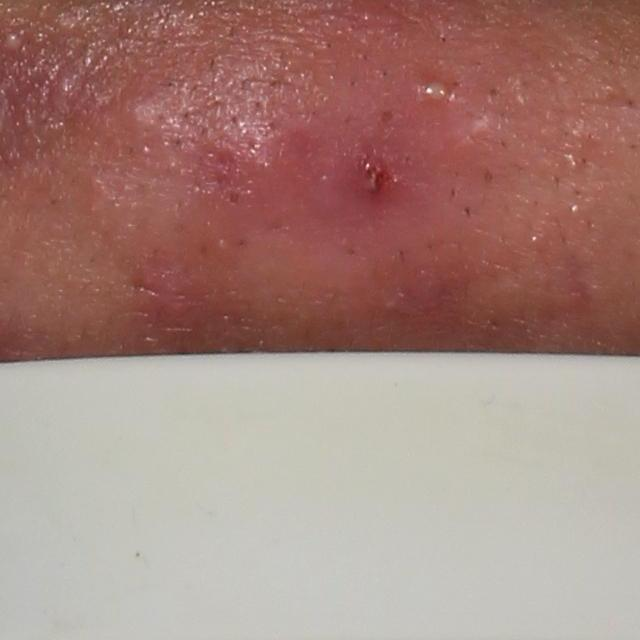papule: (117, 90, 167, 142), (353, 152, 394, 203)
pustule: (417, 76, 452, 108)
